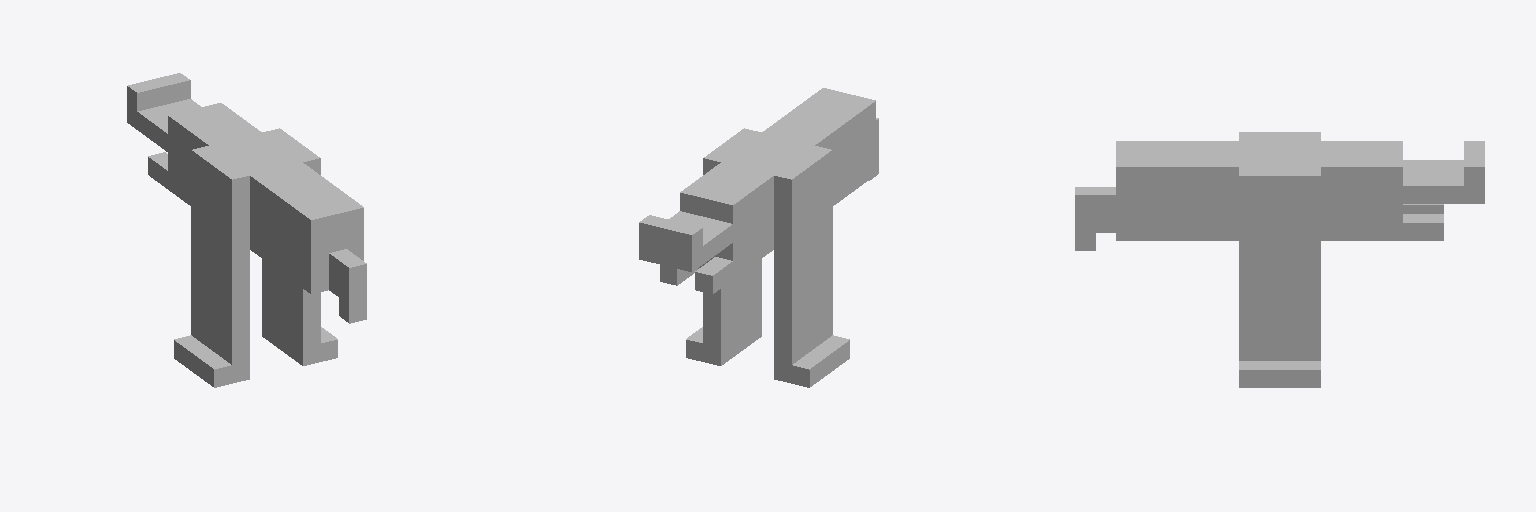
The model's file is eagle_3.obj.
3 views of the same model, side by side, from view 1: azimuth 30°, elevation 25°; view 2: azimuth 150°, elevation 25°; view 3: azimuth 270°, elevation 25° (orthographic).
Visible parts, largest first — view 1: eagle_3; view 2: eagle_3; view 3: eagle_3.
Part boxes in pixels (left/top/right/bottom): eagle_3: left=127, top=73, right=366, bottom=387; eagle_3: left=639, top=88, right=878, bottom=387; eagle_3: left=1075, top=132, right=1484, bottom=387.
Bounding box in the file's own units: 0.875 × 1.38 × 2.5.